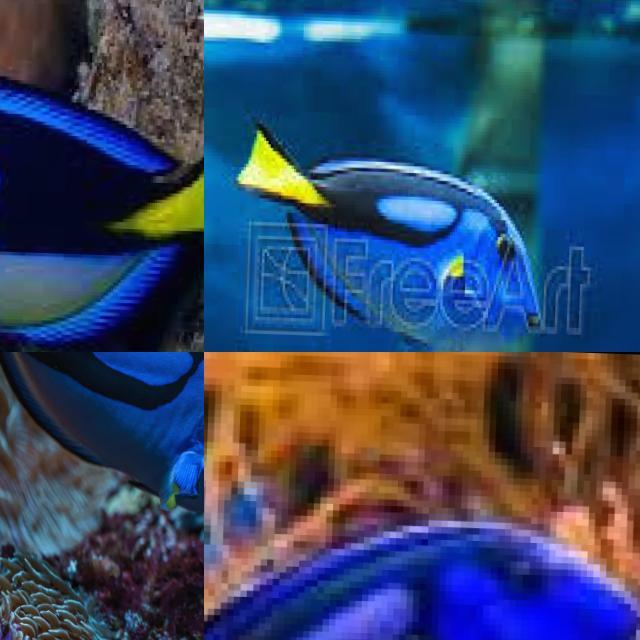BlueTang: (243, 125, 543, 340), (0, 81, 204, 352), (204, 522, 640, 640), (4, 352, 204, 507)
